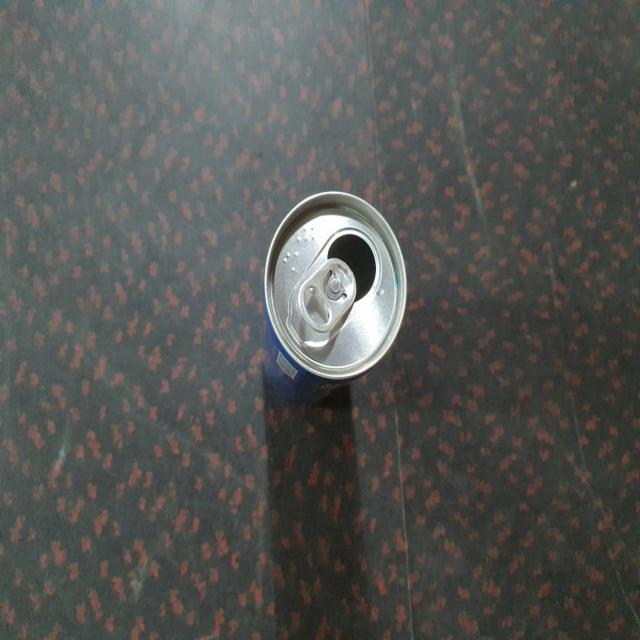can: (263, 191, 407, 404)
